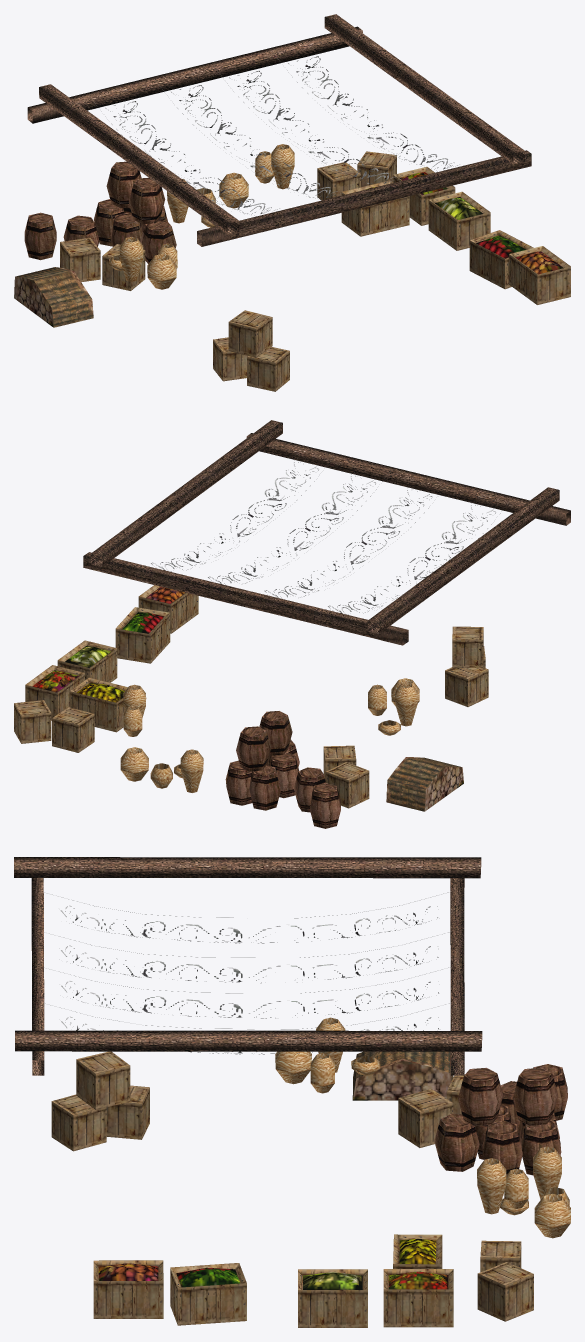
The model's file is celt_market1_props_1.dae.
The picture shows the model from 3 angles, top to bottom: view 1: azimuth 30°, elevation 25°; view 2: azimuth 150°, elevation 25°; view 3: azimuth 270°, elevation 25°; orthographic projection. The views are drawn at different scales.
Visible parts, largest first — view 1: default14; view 2: default14; view 3: default14.
Part boxes in pixels (x1=…): default14: x1=14, y1=14, x2=570, y2=391; default14: x1=14, y1=420, x2=570, y2=828; default14: x1=14, y1=857, x2=570, y2=1327.
Size of the model in its own units: 22.4 by 20.96 by 10.06.
